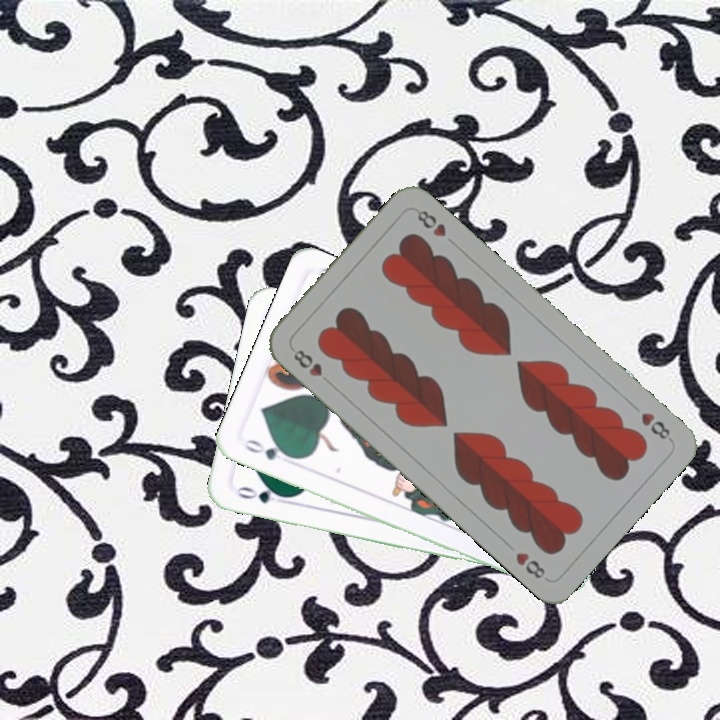GO: (240, 435, 297, 463), (233, 482, 290, 506)
H8: (289, 345, 335, 388), (637, 408, 675, 444)
